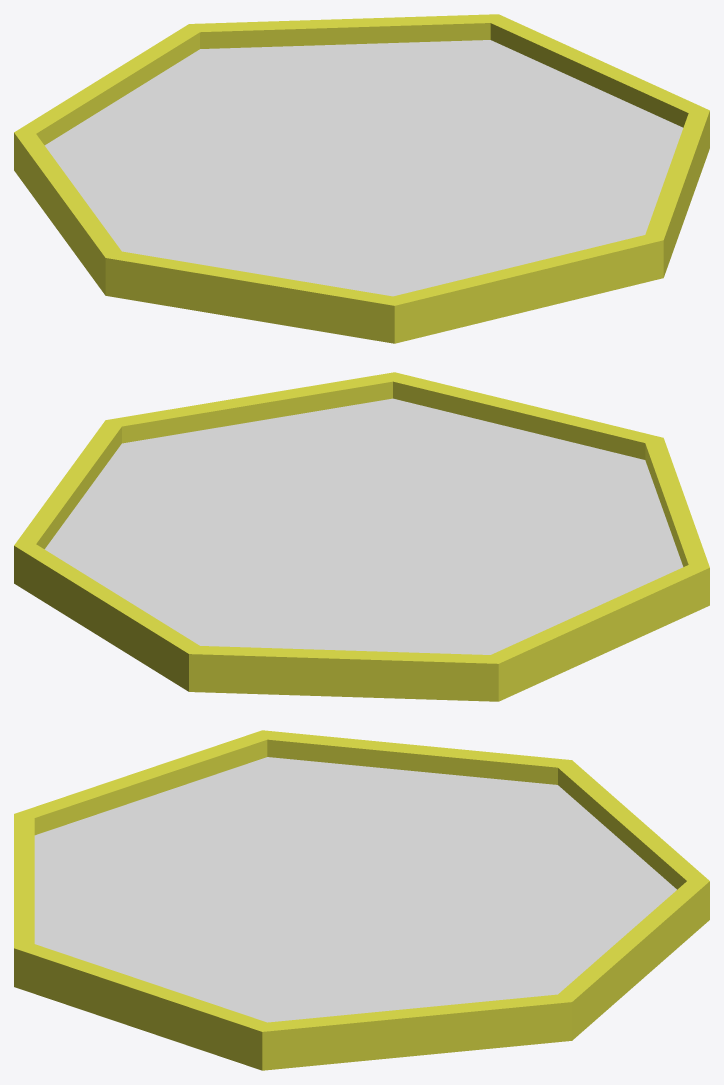
File: Pizza.fbx
The picture shows the model from 3 angles, top to bottom: view 1: azimuth 30°, elevation 25°; view 2: azimuth 150°, elevation 25°; view 3: azimuth 270°, elevation 25°; orthographic projection. The views are drawn at different scales.
Visible parts, largest first — view 1: Cylinder; view 2: Cylinder; view 3: Cylinder.
Boxes of the visible parts, x1,y1,x2,y2 form: Cylinder: (14,14,709,343); Cylinder: (14,372,709,701); Cylinder: (14,730,709,1070).
Size of the model in its own units: 195 by 11.69 by 190.
